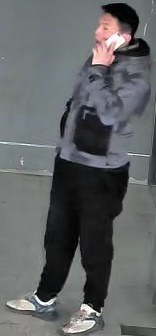phone: (70, 5, 151, 121)
